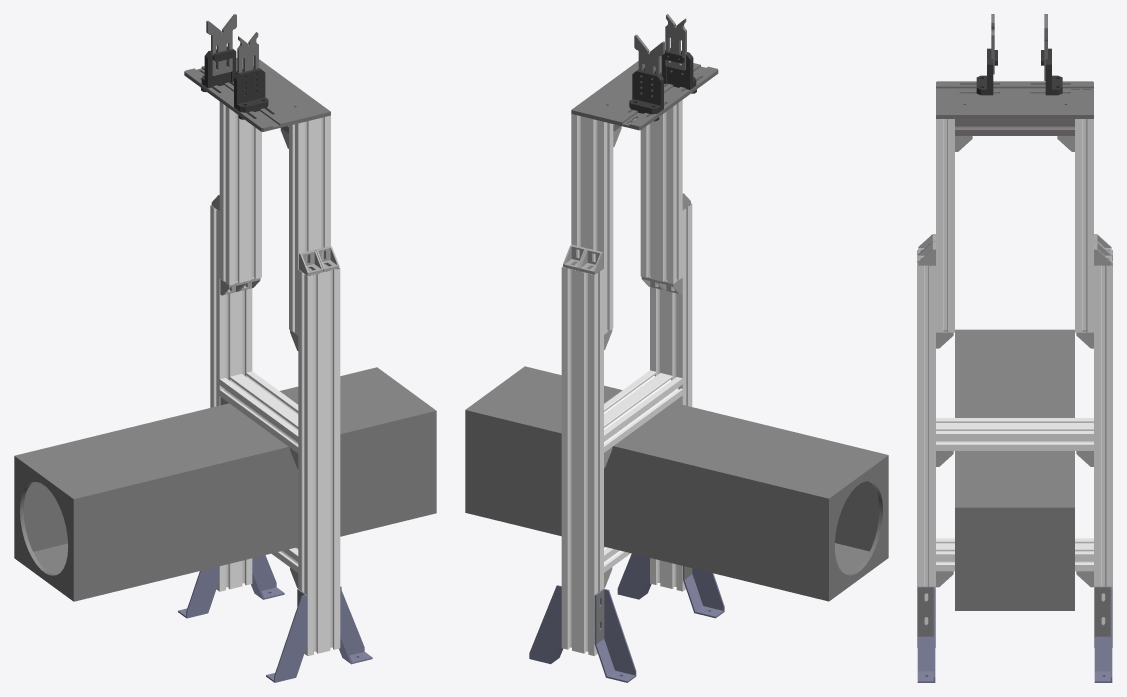
The model's file is Changeover_Jig_Cleaning.glb.
3 views of the same model, side by side, from view 1: azimuth 30°, elevation 25°; view 2: azimuth 150°, elevation 25°; view 3: azimuth 270°, elevation 25° (orthographic).
Parts seen in each view (by area): view 1: Face-9[3], Face-12[3], Face-0[493], Face-8[3], Face-0[514], Face-0[474], Face-2[3], Face-0[183], Face-0[909], Face-0[686], Face-0[585], Face-0[528] (+28 smaller); view 2: Face-11[3], Face-12[3], Face-0[773], Face-8[3], Face-0[754], Face-0[794], Face-0[937], Face-4[3], Face-0[183], Face-0[629], Face-0[865], Face-0[973] (+29 smaller); view 3: Face-12[3], Face-10[3], Face-0[183], Face-0[462], Face-0[504], Face-0[808], Face-0[790], Face-0[650], Face-0[973], Face-0[646], Face-0[649], Face-0[923] (+34 smaller).
Part boxes in pixels (x1,y1,x2,y2): Face-9[3]: (73, 411, 436, 601); Face-12[3]: (14, 367, 436, 498); Face-0[493]: (318, 271, 329, 653); Face-8[3]: (14, 456, 73, 601); Face-0[514]: (334, 268, 340, 649); Face-0[474]: (307, 275, 313, 655); Face-2[3]: (23, 482, 67, 551); Face-0[183]: (202, 56, 330, 123); Face-0[909]: (239, 119, 251, 282); Face-0[686]: (266, 589, 307, 682); Face-0[585]: (308, 118, 320, 250); Face-0[528]: (304, 274, 307, 655); Face-11[3]: (465, 410, 828, 601); Face-12[3]: (465, 366, 888, 498); Face-0[773]: (572, 270, 583, 653); Face-8[3]: (829, 455, 888, 601); Face-0[754]: (561, 267, 567, 649); Face-0[794]: (588, 274, 594, 655); Face-0[937]: (594, 588, 636, 682); Face-4[3]: (835, 481, 879, 551); Face-0[183]: (571, 56, 700, 122); Face-0[629]: (651, 114, 662, 281); Face-0[865]: (581, 116, 593, 249); Face-0[973]: (529, 585, 562, 664); Face-12[3]: (955, 329, 1074, 507); Face-10[3]: (955, 507, 1074, 610); Face-0[183]: (936, 90, 1093, 114); Face-0[462]: (917, 266, 923, 647); Face-0[504]: (929, 266, 935, 647); Face-0[808]: (1106, 266, 1112, 647); Face-0[790]: (1094, 266, 1100, 647); Face-0[650]: (917, 586, 935, 682); Face-0[973]: (1094, 586, 1112, 682); Face-0[646]: (936, 119, 942, 332); Face-0[649]: (948, 119, 954, 332); Face-0[923]: (1087, 119, 1093, 332).
Size of what is drawn, in the model's own units: 1 by 1.63 by 0.465.
